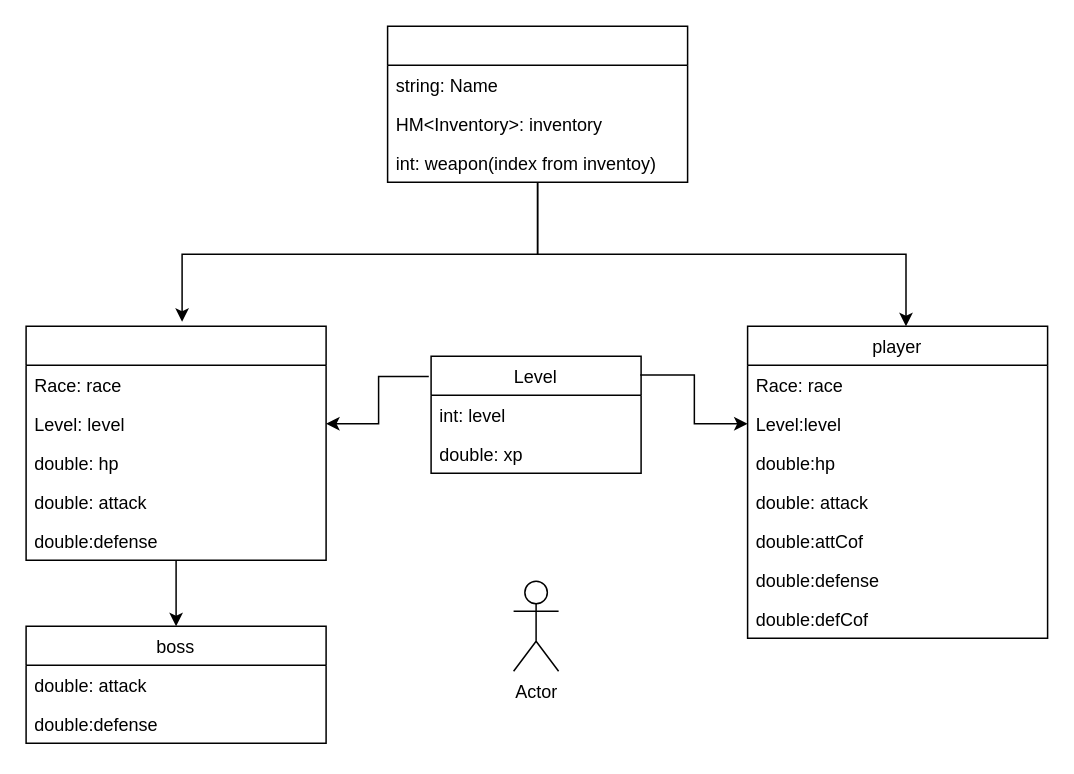
Image size: 1074x774. Some labels were removed from this diagram. Each missing label, with the box of its shape:
enemy: (25, 325, 326, 560)
perso: (386, 25, 688, 182)
